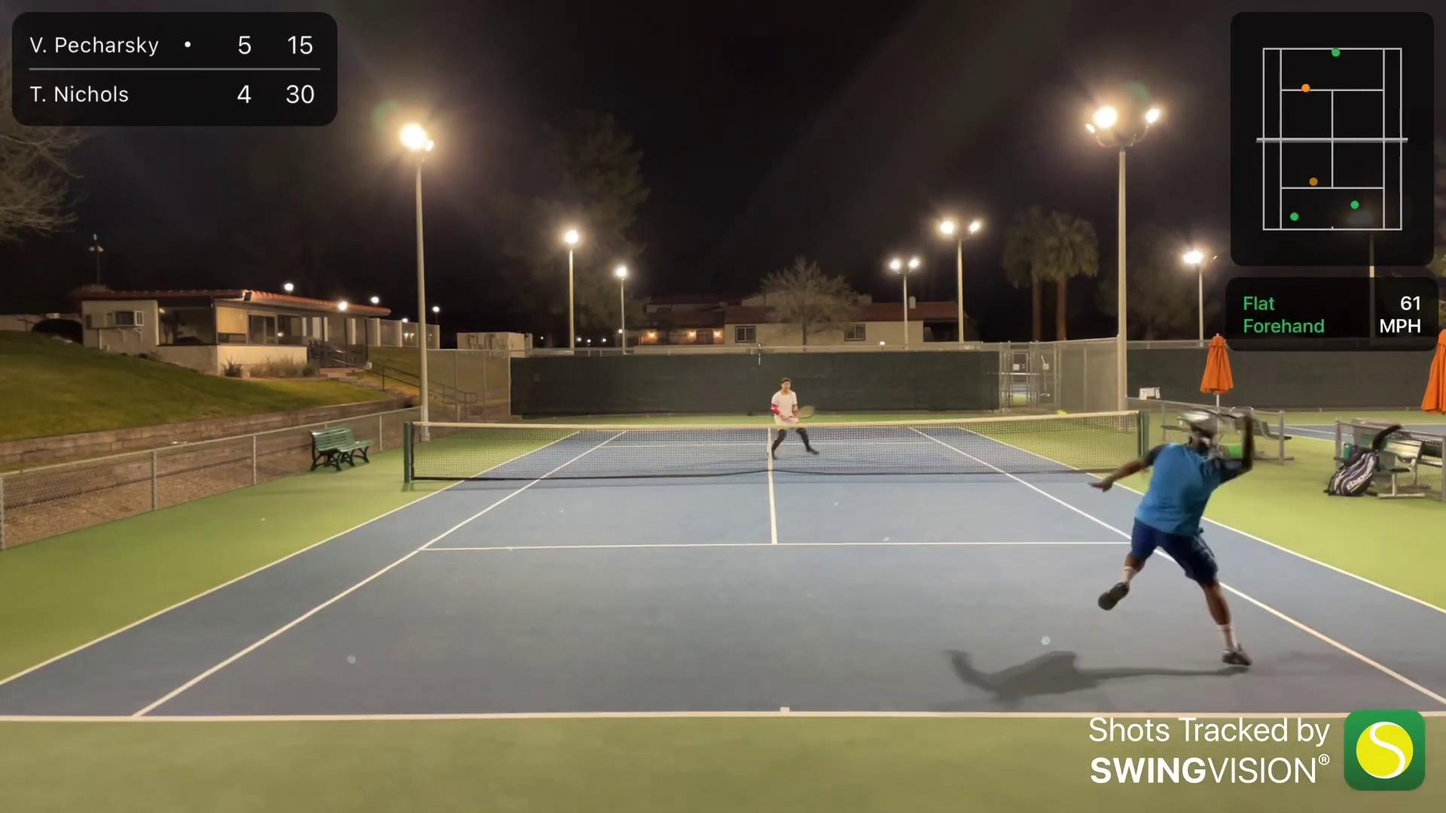ball: (1051, 406, 1065, 418)
